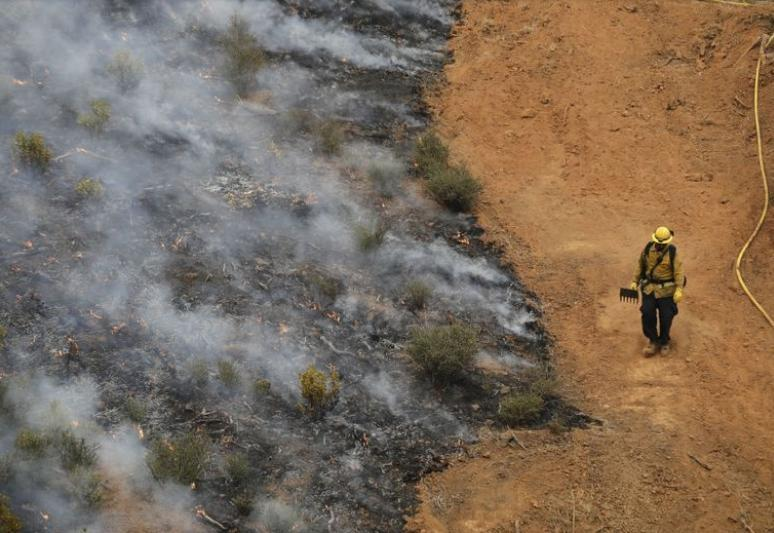smoke: (94, 174, 177, 329), (34, 9, 116, 93)
